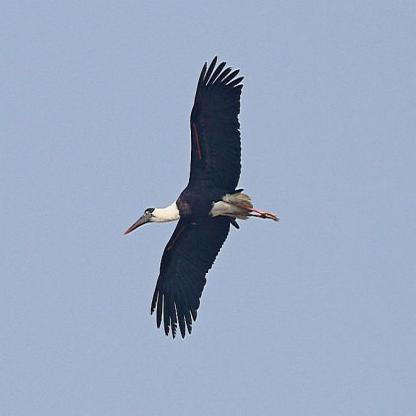Burung: (124, 53, 288, 335)
